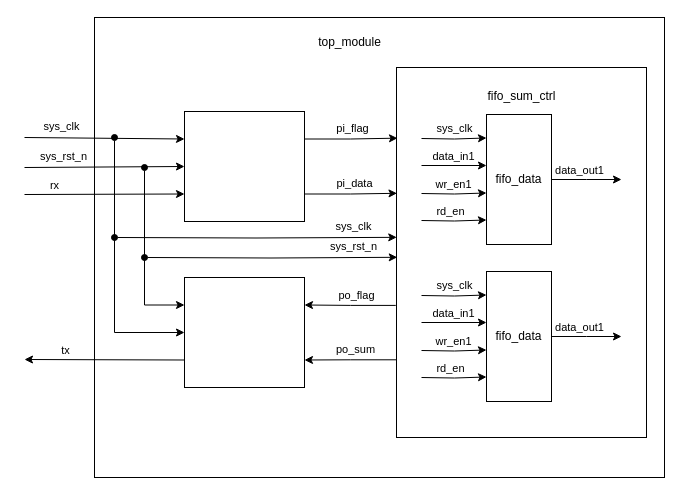
Some shapes in this 682 by 495 pixel diagram are drawn without their labels. The centre of each missing label's shape, as x and y in pixels:
"uart_rx" goes at point (244, 166).
"uart_tx" goes at point (244, 332).
